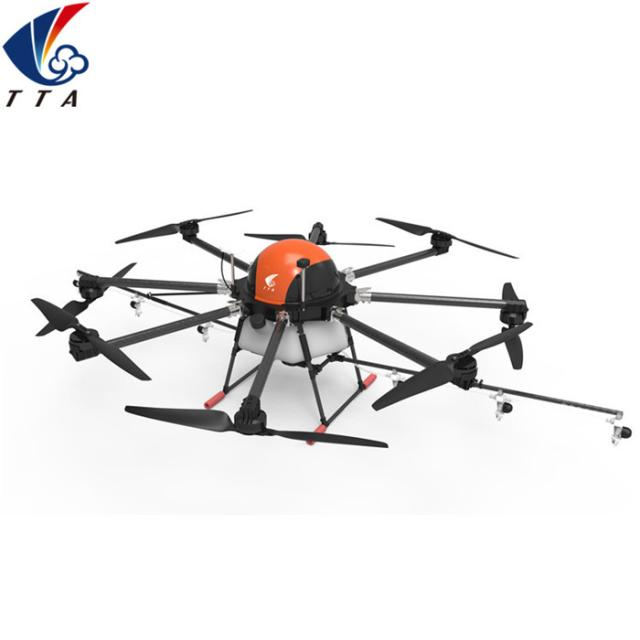drone: (0, 167, 640, 496)
